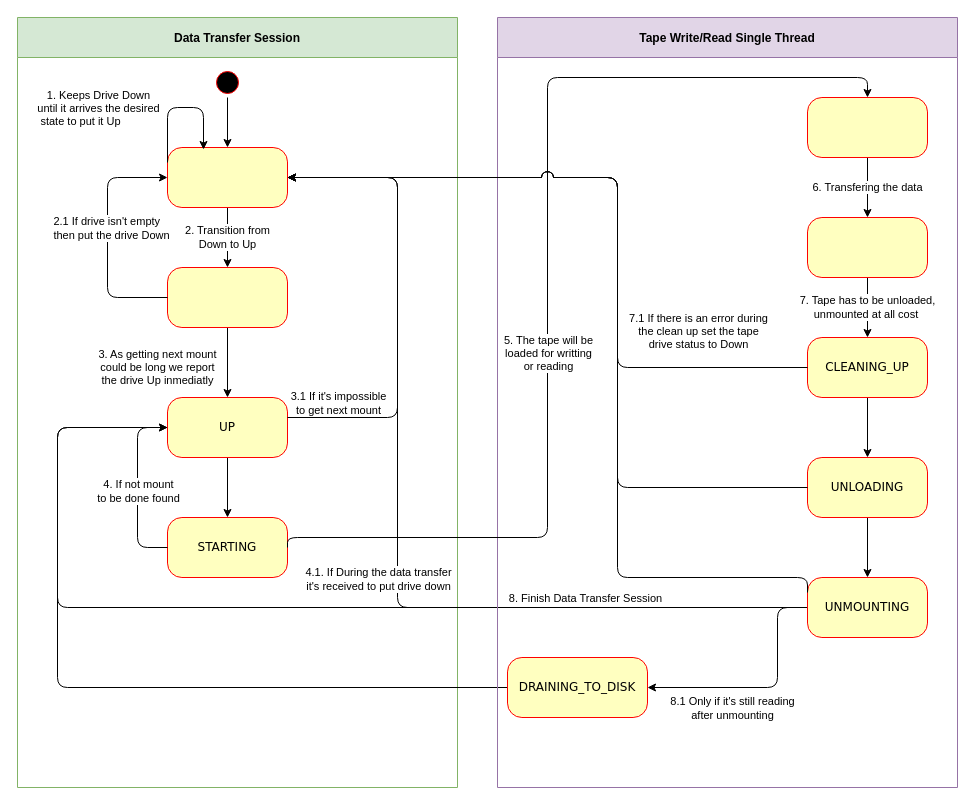
The diagram is 975 pixels wide and 805 high, and some of its shapes have lost their labels. Each missing label, with the centre of its shape:
"DOWN" goes at pixel 227 177.
"MOUNTING" goes at pixel 867 127.
"PROBING" goes at pixel 227 297.
"TRANSFERRING" goes at pixel 867 247.
